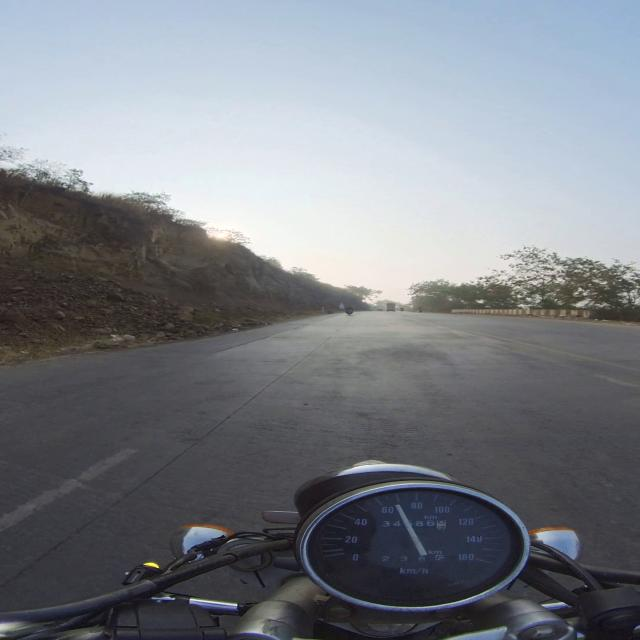motorcycle: (0, 461, 639, 639)
